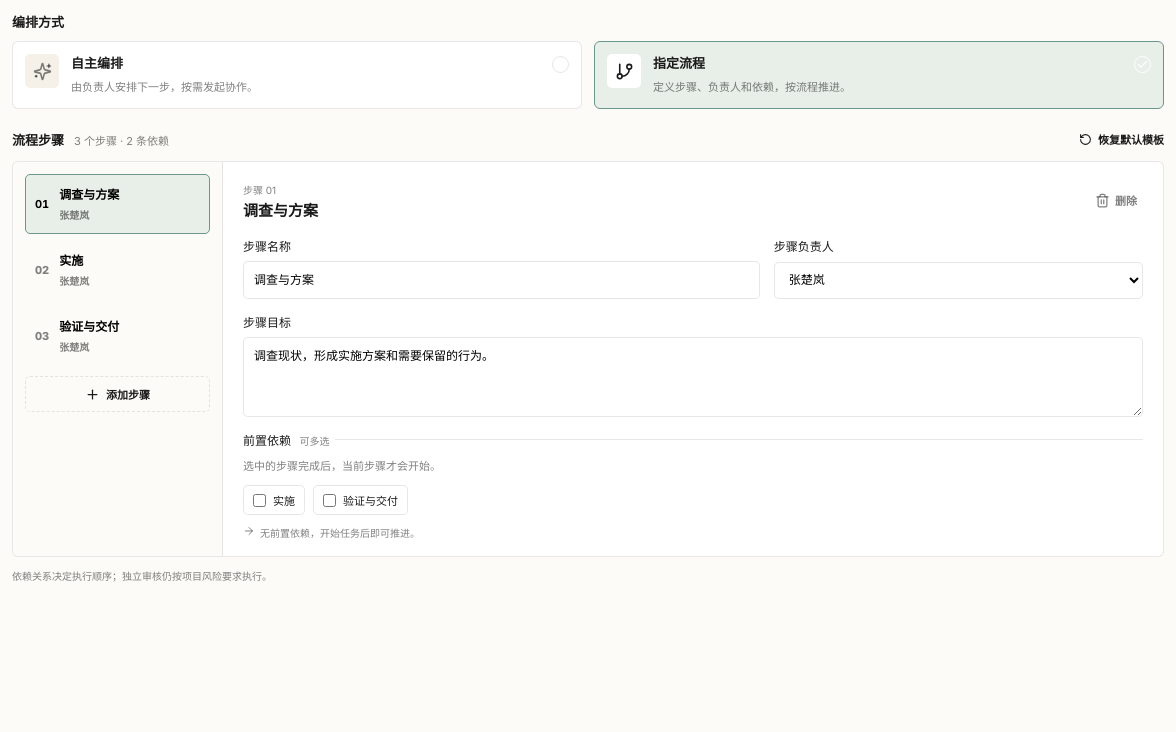
Test: 编排步骤编辑器 › 切换步骤保留各自名称、目标与负责人
Replace the text in the field labelled "步骤名称" with "需求调研" at (501, 280), box [243,261,760,299]
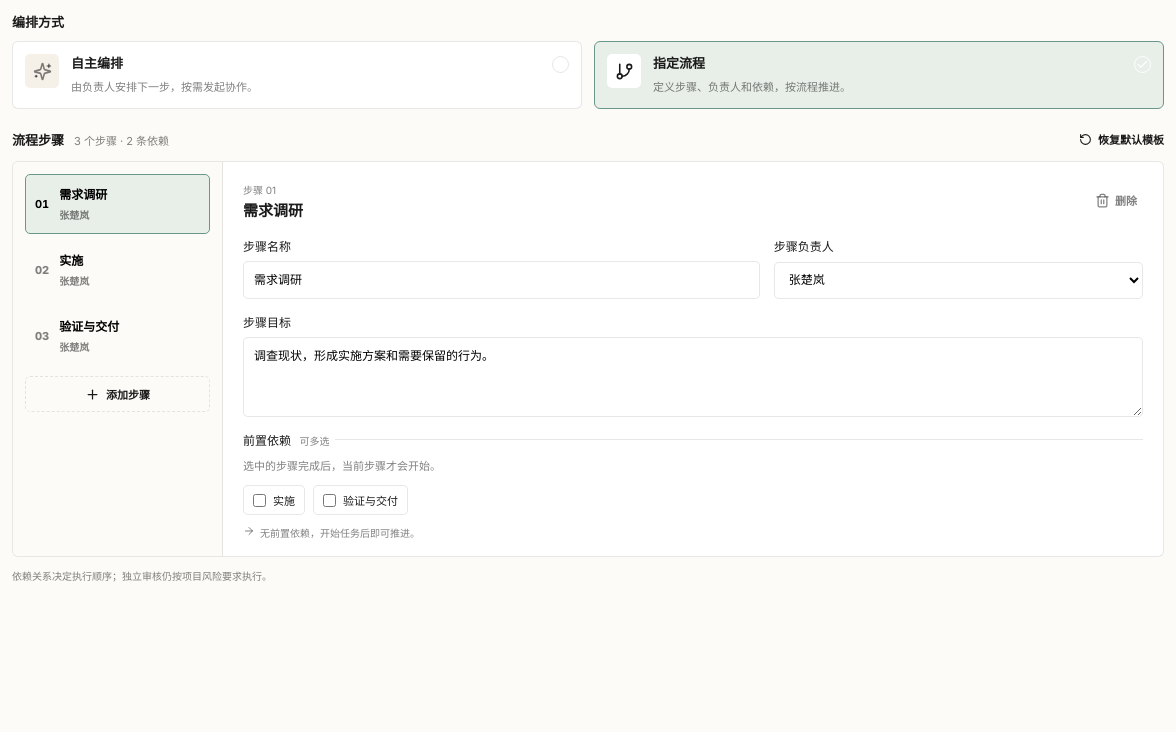
Click the button "02 实施 张楚岚" at (118, 270), box [25,240,210,300]
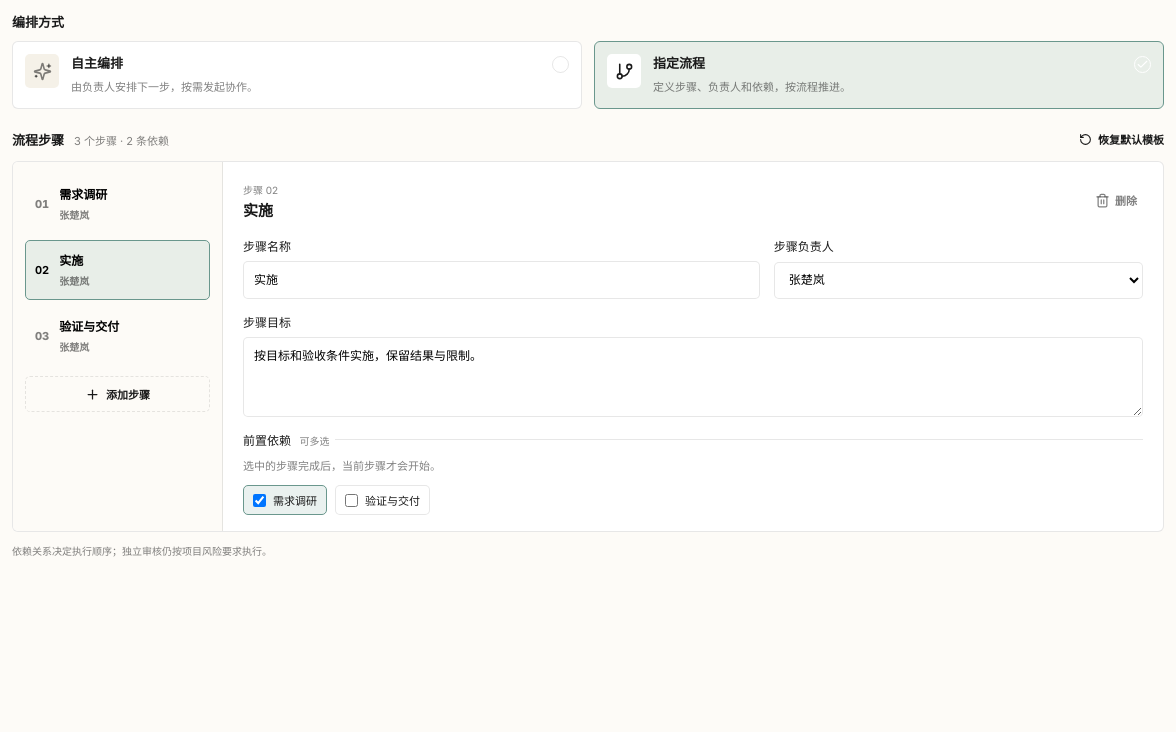
Replace the text in the text box labelled "步骤目标" with "实现报名与确认页面" at (693, 377), box [243,337,1143,417]
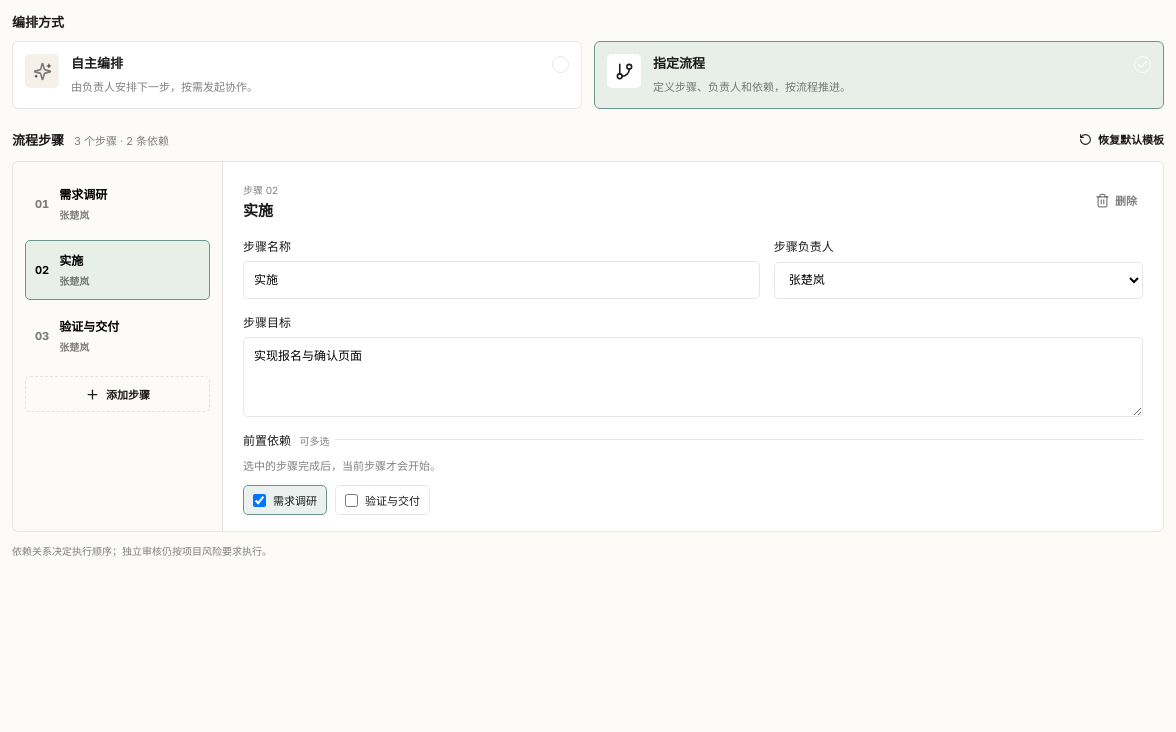
Select "冯宝宝" in the dropdown labelled "步骤负责人" at (958, 280), box [774,262,1143,299]
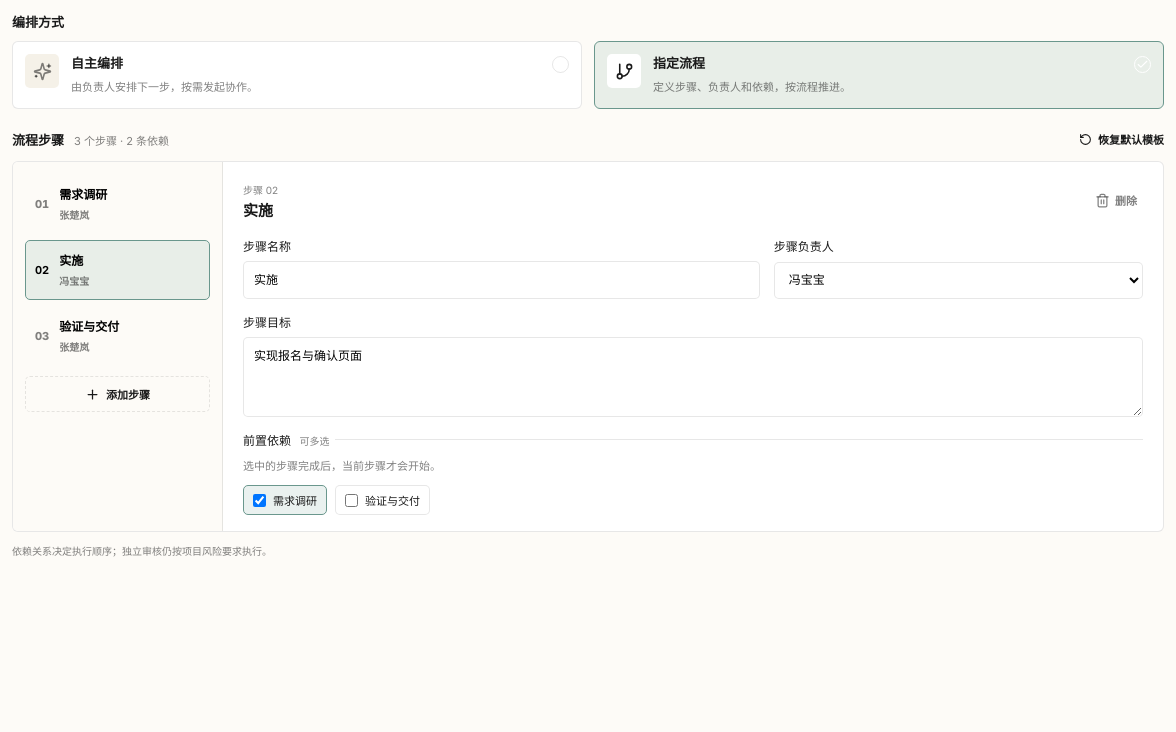
Click the button "01 需求调研 张楚岚" at (118, 204), box [25,174,210,234]
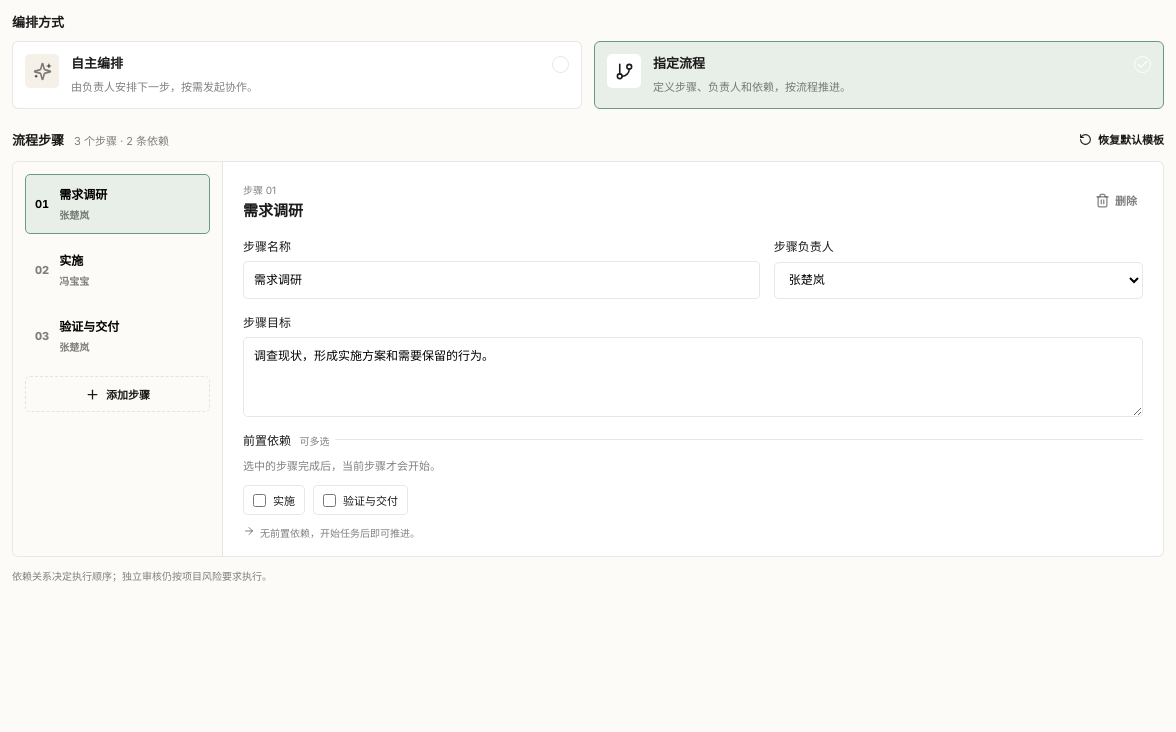
Now the field labelled "步骤名称" holds "需求调研", box [243,261,760,299]
Click the button "02 实施 冯宝宝" at (118, 270), box [25,240,210,300]
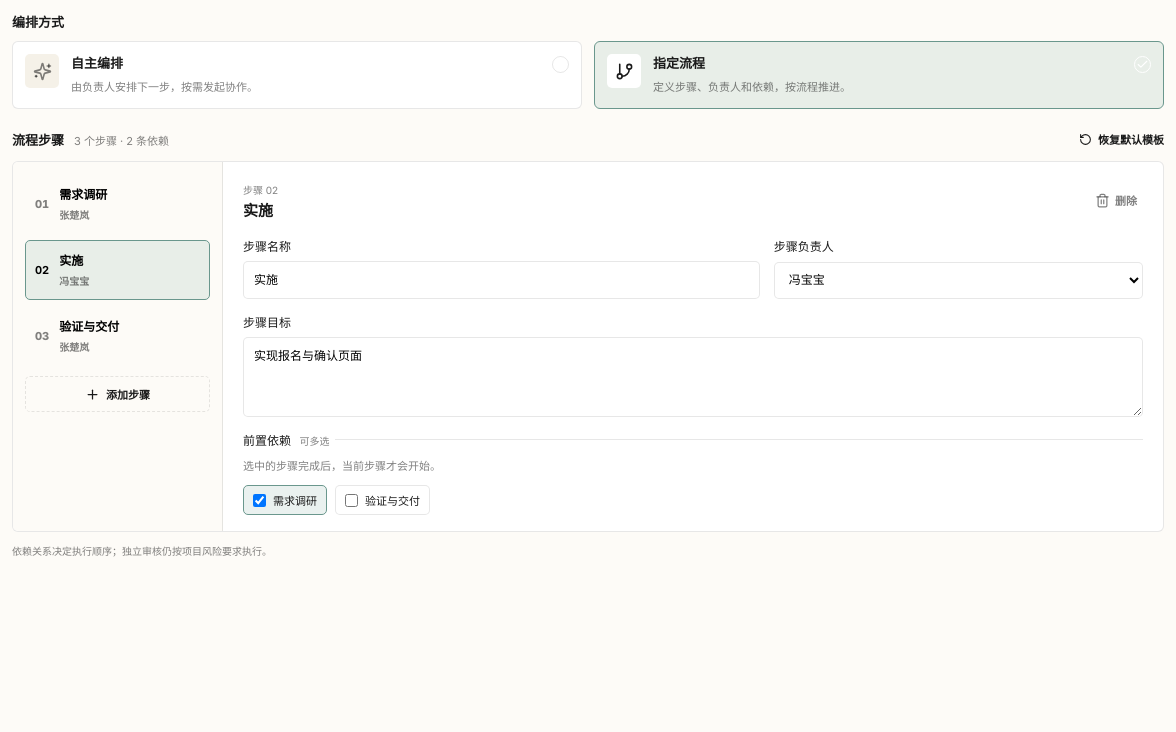
Now the text box labelled "步骤目标" holds "实现报名与确认页面", box [243,337,1143,417]
Now the dropdown labelled "步骤负责人" shows "冯宝宝", box [774,262,1143,299]
